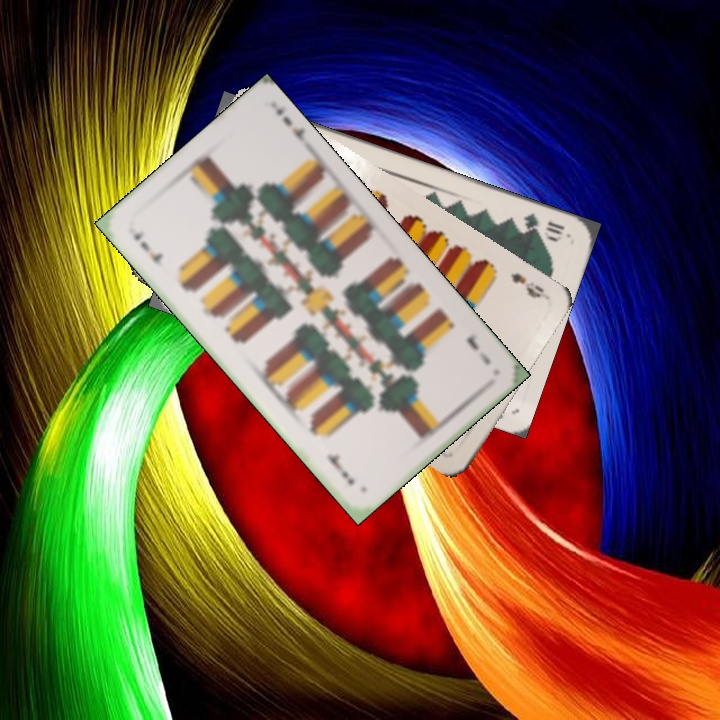E7: (129, 226, 166, 270), (462, 330, 493, 367)
E9: (506, 268, 549, 301)
G10: (519, 209, 567, 244)
